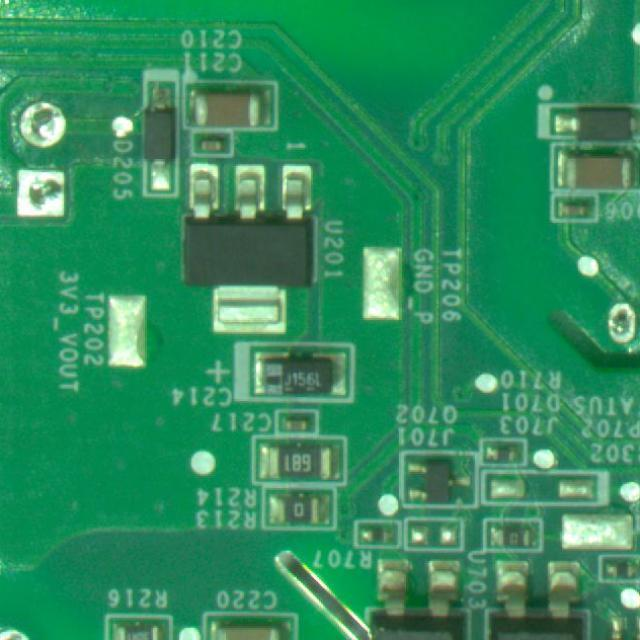Insufficient solder: (0, 166, 87, 230), (4, 103, 86, 156), (594, 294, 640, 346)
